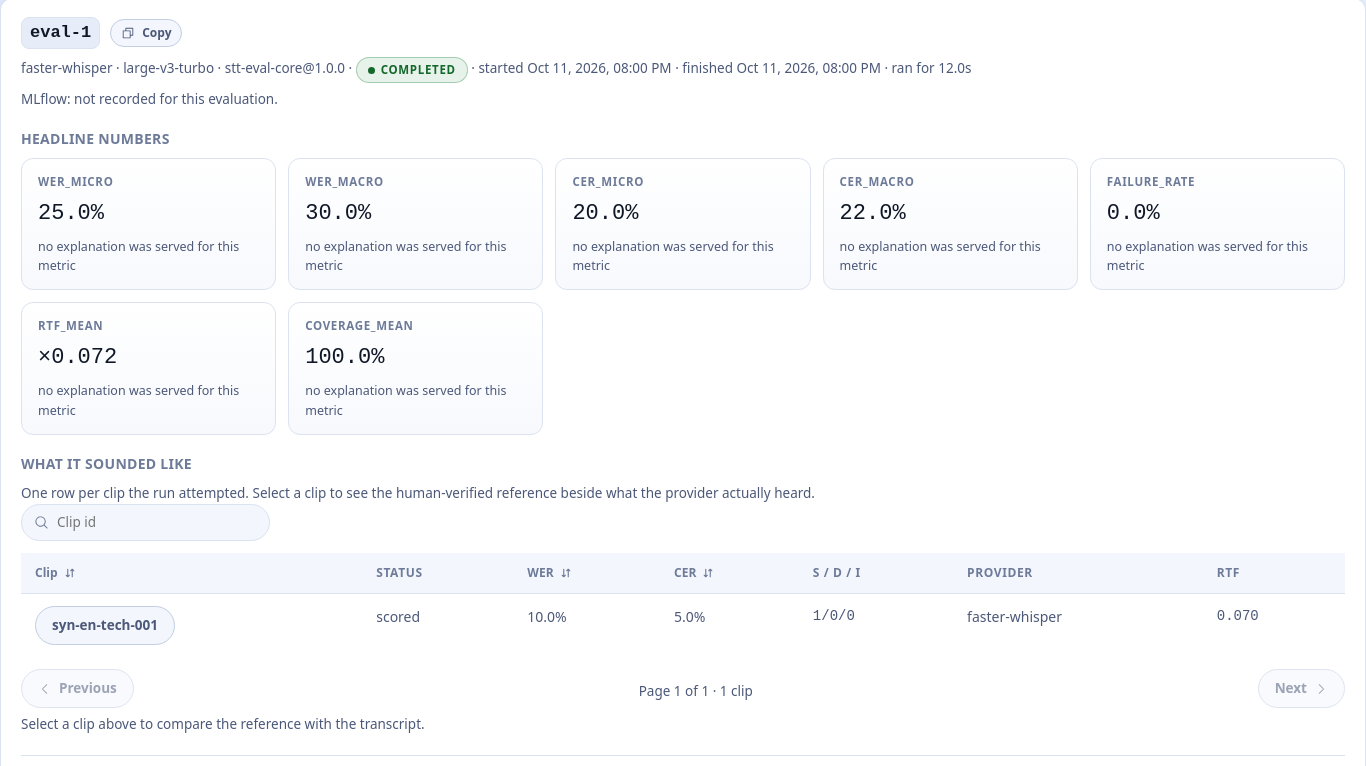
Test case: EvaluationRunDetail › the diff highlights equal, substituted, deleted and inserted tokens
Click the button "syn-en-tech-001" at (105, 626), box x1=35 y1=606 x2=175 y2=645
(page scrolled)
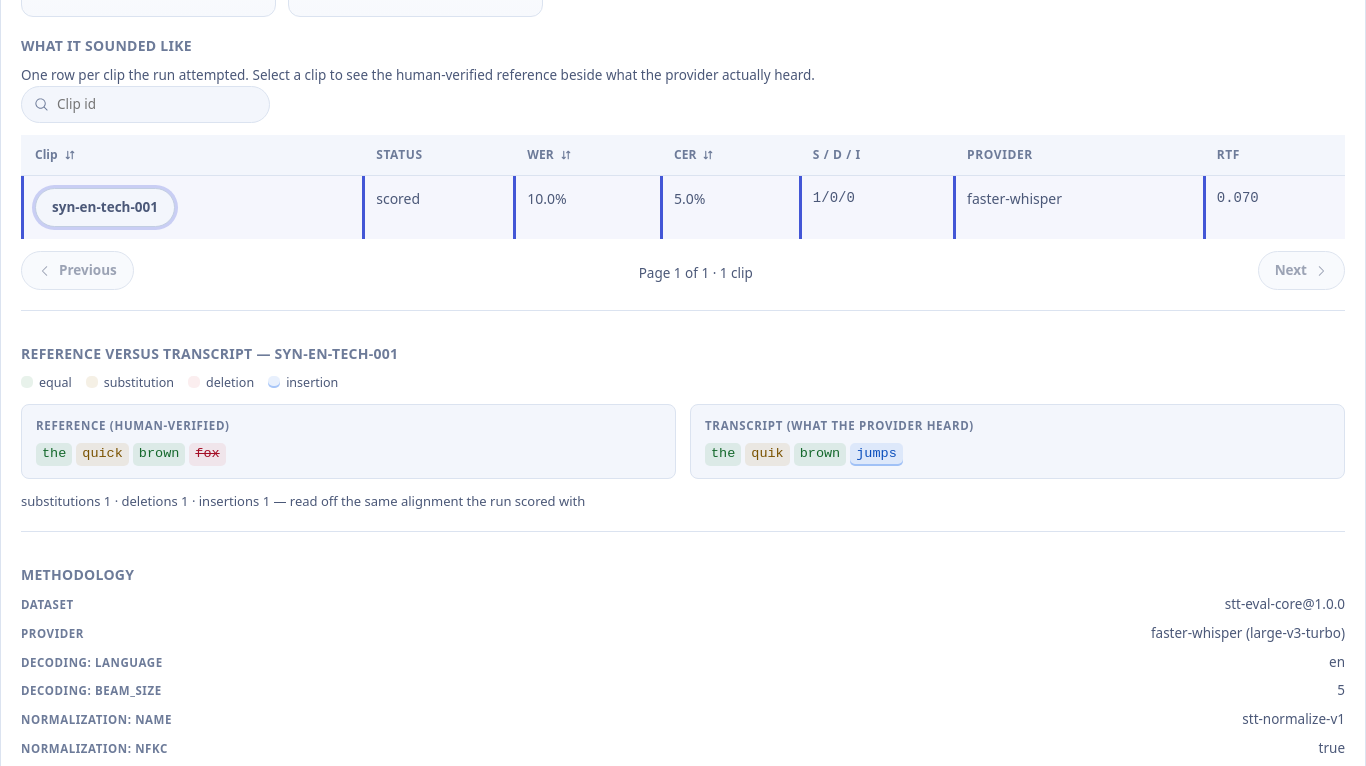
Now the element with test id "diff-reference" shows "fox", box x1=195 y1=446 x2=220 y2=461
Now the element with test id "diff-hypothesis" shows "jumps", box x1=856 y1=446 x2=897 y2=461
Now the text with test id "diff-counts" shows "substitutions 1", box x1=21 y1=492 x2=585 y2=510
